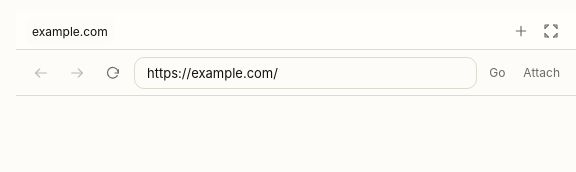
Scenario: BrowserPanel › returns an abandoned address draft to the live page after blur
This screenshot has width=576, height=172.
Replace the text in the field named "Web address" with "unfinished.example" at point(306, 72), box [134, 56, 477, 88]
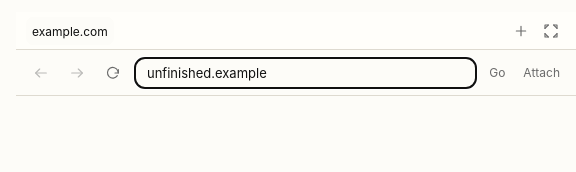
Press Tab
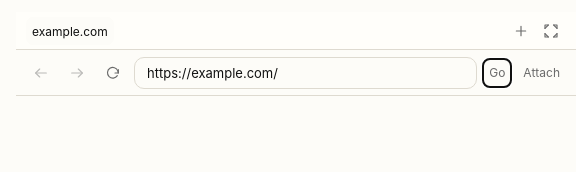
Expected: the field named "Web address" holds "https://example.com/", [134, 56, 477, 88]
